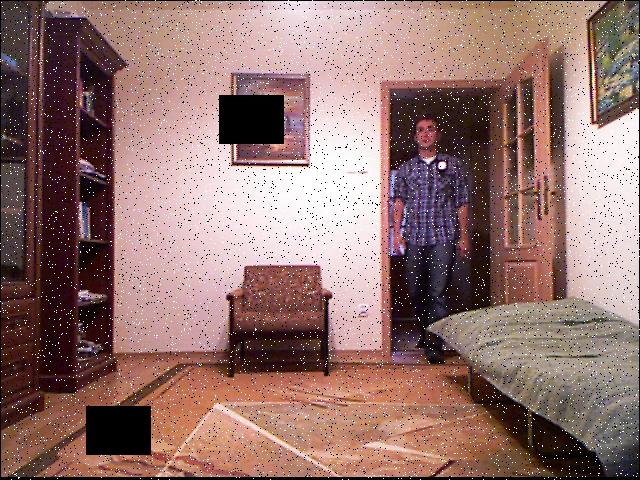walking: (386, 102, 478, 379)
